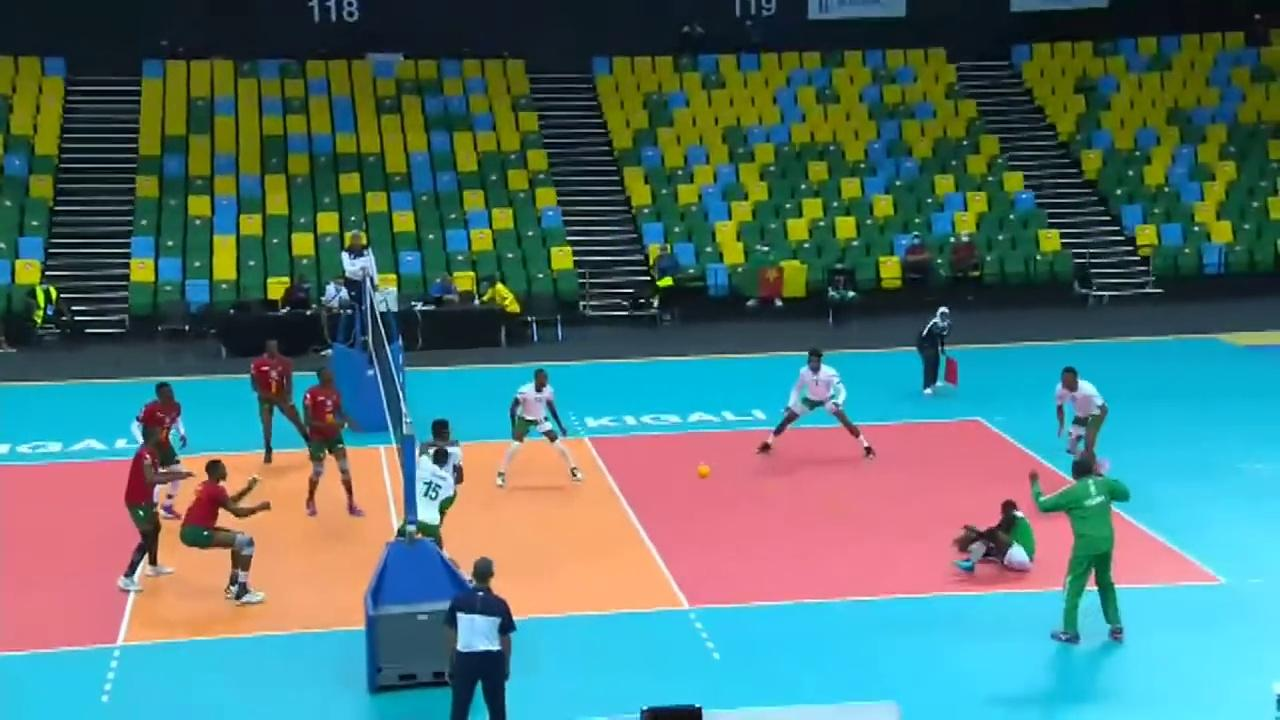player: (763, 350, 876, 459), (185, 462, 273, 600), (121, 426, 180, 599), (295, 366, 362, 516), (134, 374, 199, 525), (498, 370, 575, 487), (246, 337, 310, 464), (407, 418, 464, 559), (944, 496, 1044, 576), (399, 446, 454, 588), (1053, 368, 1109, 478)
refree: (444, 562, 520, 717), (340, 229, 380, 315), (919, 305, 956, 395)
